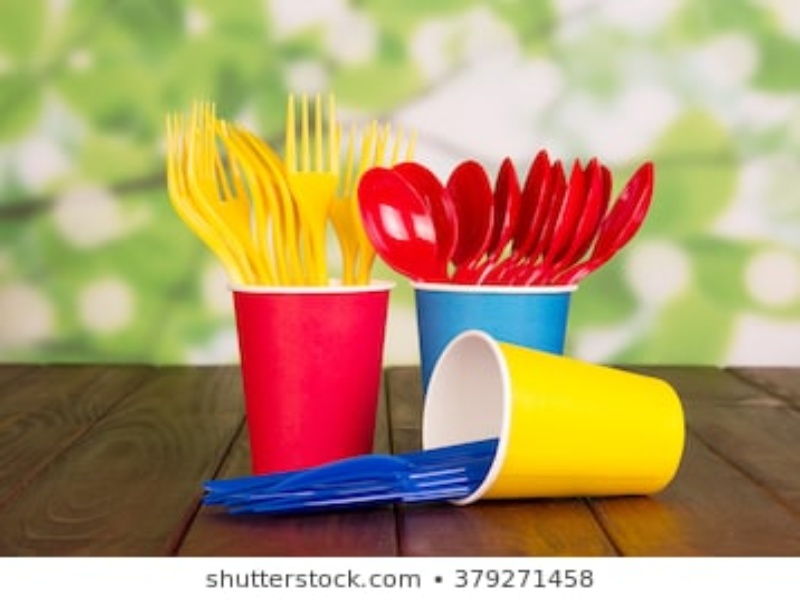plastic-cup: (420, 327, 689, 509), (235, 284, 386, 471)
plastic-silverware: (189, 96, 266, 287), (162, 113, 248, 284), (553, 161, 659, 285), (226, 121, 304, 286), (284, 92, 346, 285), (324, 118, 393, 287), (357, 166, 447, 282), (392, 161, 459, 279), (547, 155, 602, 286), (502, 149, 554, 280), (448, 160, 497, 285), (541, 160, 585, 287), (493, 158, 522, 291)
